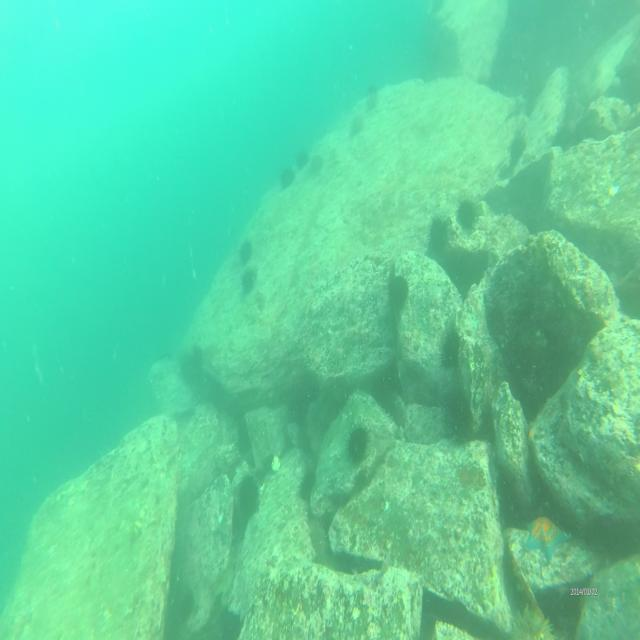echinus: (234, 478, 262, 520), (438, 323, 462, 372), (345, 421, 371, 466), (455, 192, 481, 235), (385, 271, 411, 312), (307, 517, 330, 563), (428, 212, 452, 252), (297, 470, 317, 505), (240, 269, 258, 294), (237, 238, 253, 266), (278, 167, 296, 189), (366, 82, 380, 110), (294, 148, 308, 170), (350, 114, 362, 135)
starfish: (524, 506, 573, 562)
